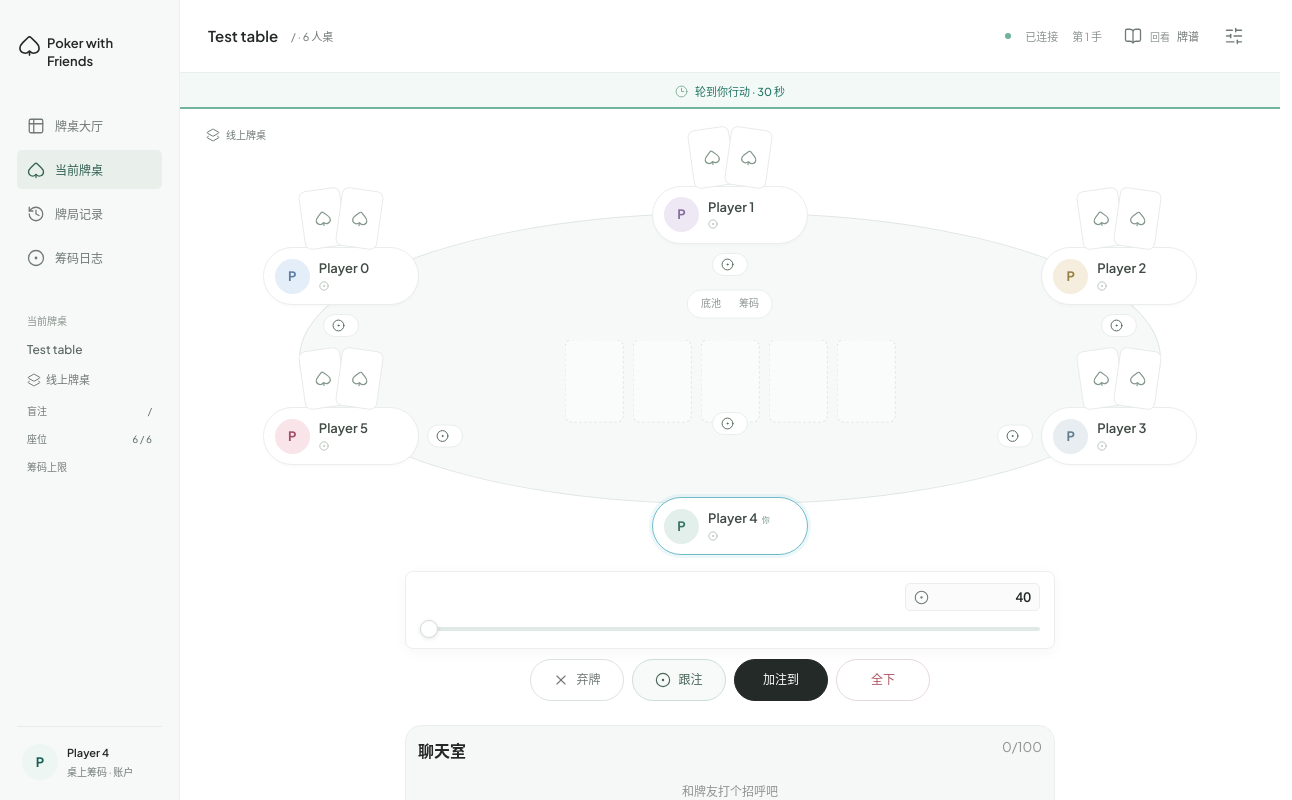
it: table interaction › closes an open all-in dialog and disables commands on disconnection
The width and height of the screenshot is (1292, 800).
Step 1. Click the button "全下" → (883, 680), box [836, 659, 930, 701]
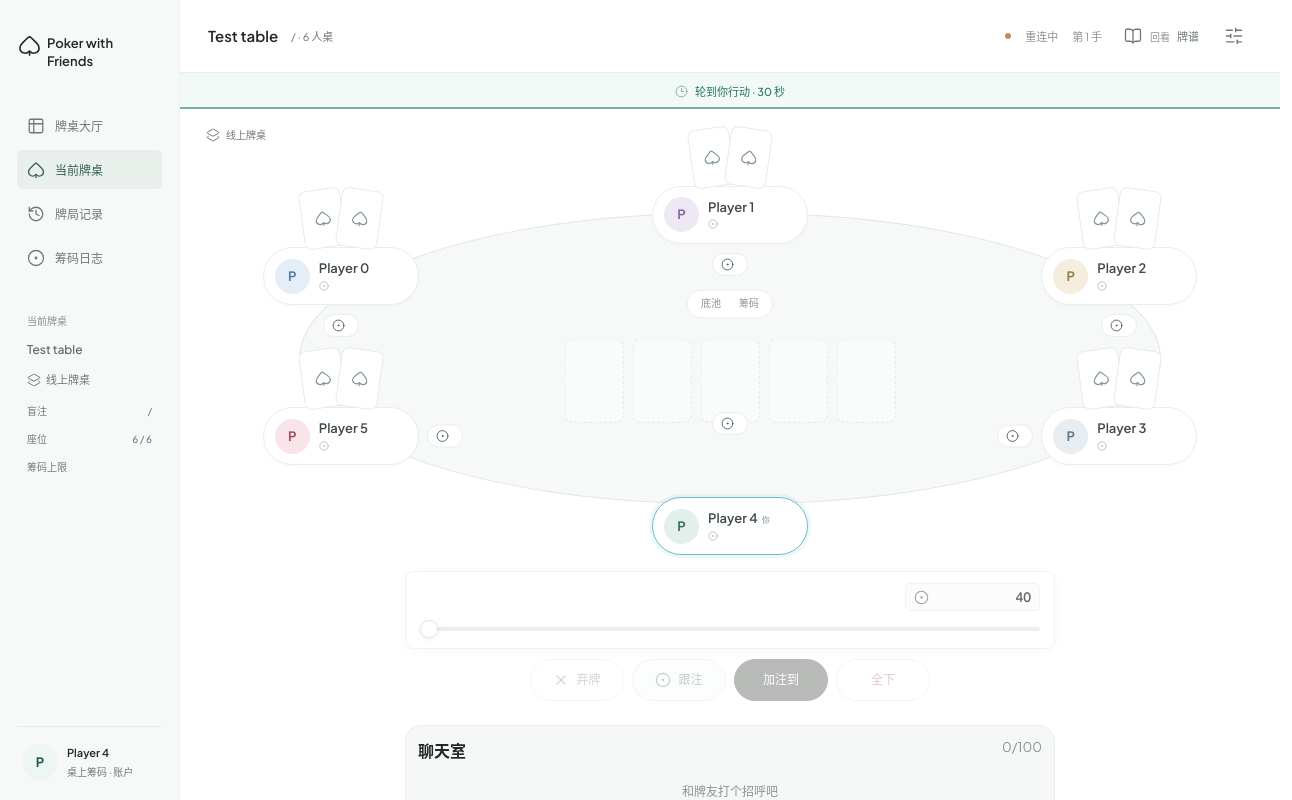
Expected: the element with class "command-surface" is disabled, [405, 559, 1055, 713]
